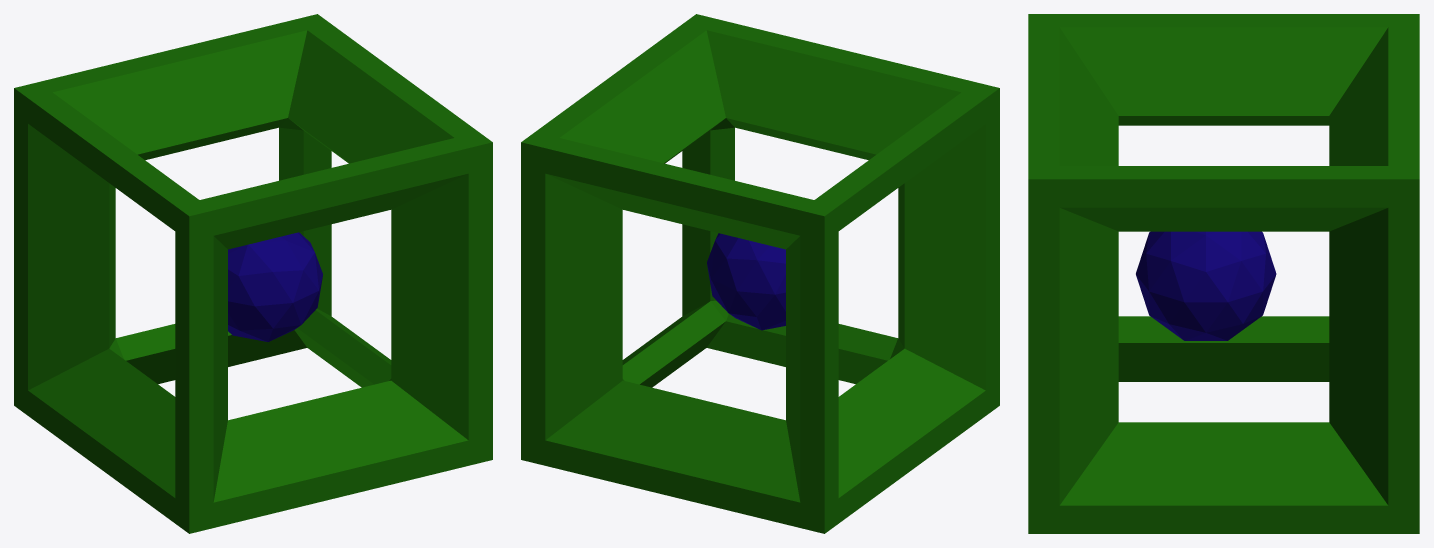
The model's file is 6_Fractal.fbx.
3 renders of one model, left to right at view 1: azimuth 30°, elevation 25°; view 2: azimuth 150°, elevation 25°; view 3: azimuth 270°, elevation 25°, orthographic. The views are drawn at different scales.
Parts seen in each view (by area): view 1: Fractal; view 2: Fractal; view 3: Fractal.
Part boxes in pixels (left/top/right/bottom): Fractal: left=14, top=14, right=492, bottom=533; Fractal: left=521, top=14, right=999, bottom=533; Fractal: left=1028, top=14, right=1419, bottom=533.
Bounding box in the file's own units: 100 × 100 × 100.
